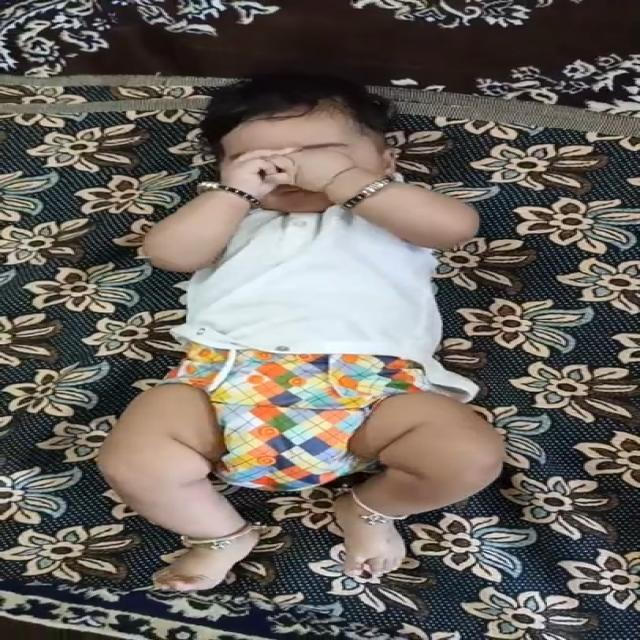baby: (90, 71, 526, 613)
